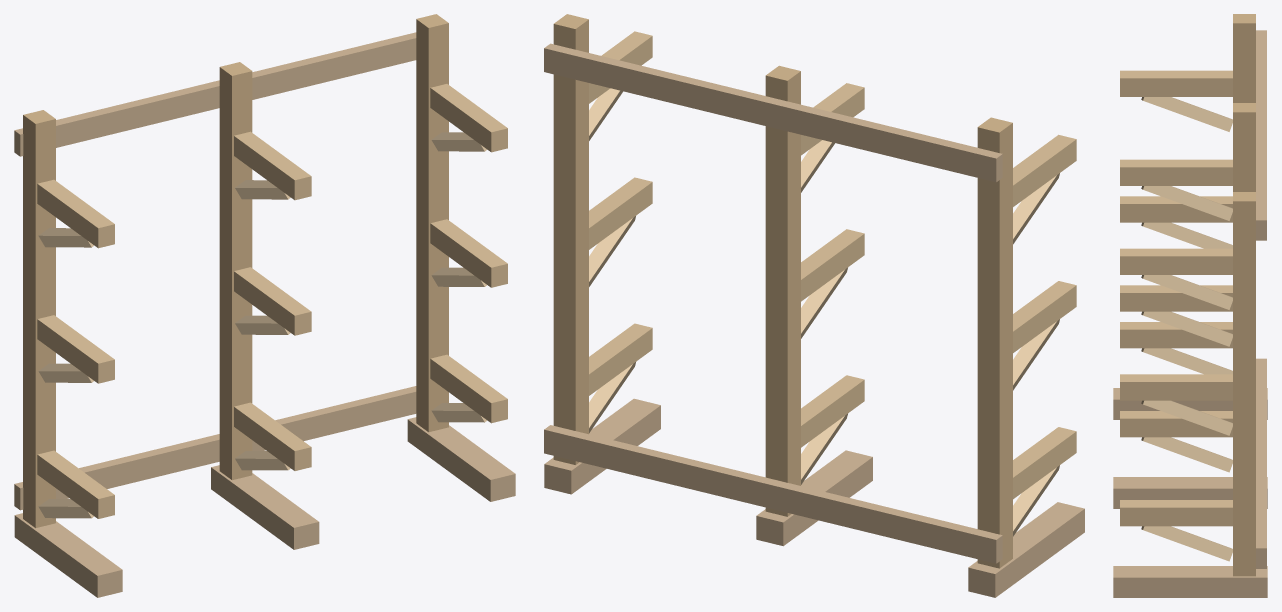
The model's file is SHOP_LumberRack.glb.
The picture shows the model from 3 angles, left to right: view 1: azimuth 30°, elevation 25°; view 2: azimuth 150°, elevation 25°; view 3: azimuth 270°, elevation 25°; orthographic projection. The views are drawn at different scales.
Parts seen in each view (by area): view 1: Posts, Arms, Rails, Feet, Knees; view 2: Posts, Rails, Arms, Feet, Knees; view 3: Arms, Posts, Knees, Feet, Rails.
Part boxes in pixels (bbox=[...]): Posts: bbox=[23, 14, 448, 528]; Arms: bbox=[37, 84, 507, 518]; Rails: bbox=[14, 32, 416, 510]; Feet: bbox=[14, 417, 515, 597]; Knees: bbox=[38, 132, 487, 518]; Posts: bbox=[553, 14, 1012, 568]; Rails: bbox=[544, 43, 1002, 563]; Arms: bbox=[589, 31, 1076, 499]; Feet: bbox=[544, 398, 1084, 597]; Knees: bbox=[589, 88, 1059, 536]; Arms: bbox=[1120, 70, 1232, 526]; Posts: bbox=[1233, 14, 1255, 576]; Knees: bbox=[1141, 97, 1232, 561]; Feet: bbox=[1113, 388, 1267, 597]; Rails: bbox=[1256, 30, 1266, 568].
Bounding box in the file's own units: 1.75 × 1.7 × 0.6.
